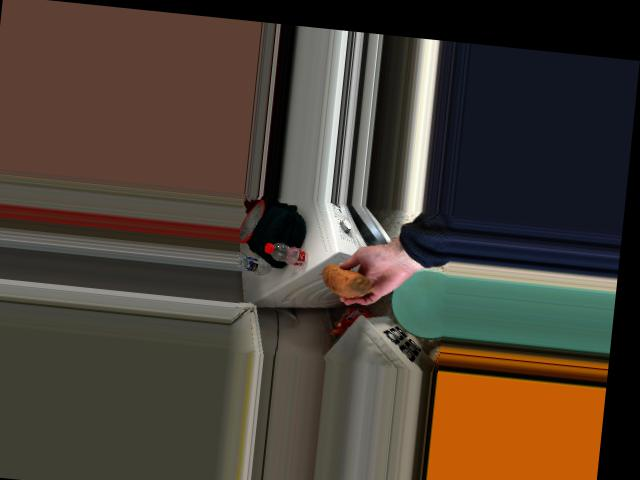sweet_potato: (318, 267, 378, 298)
